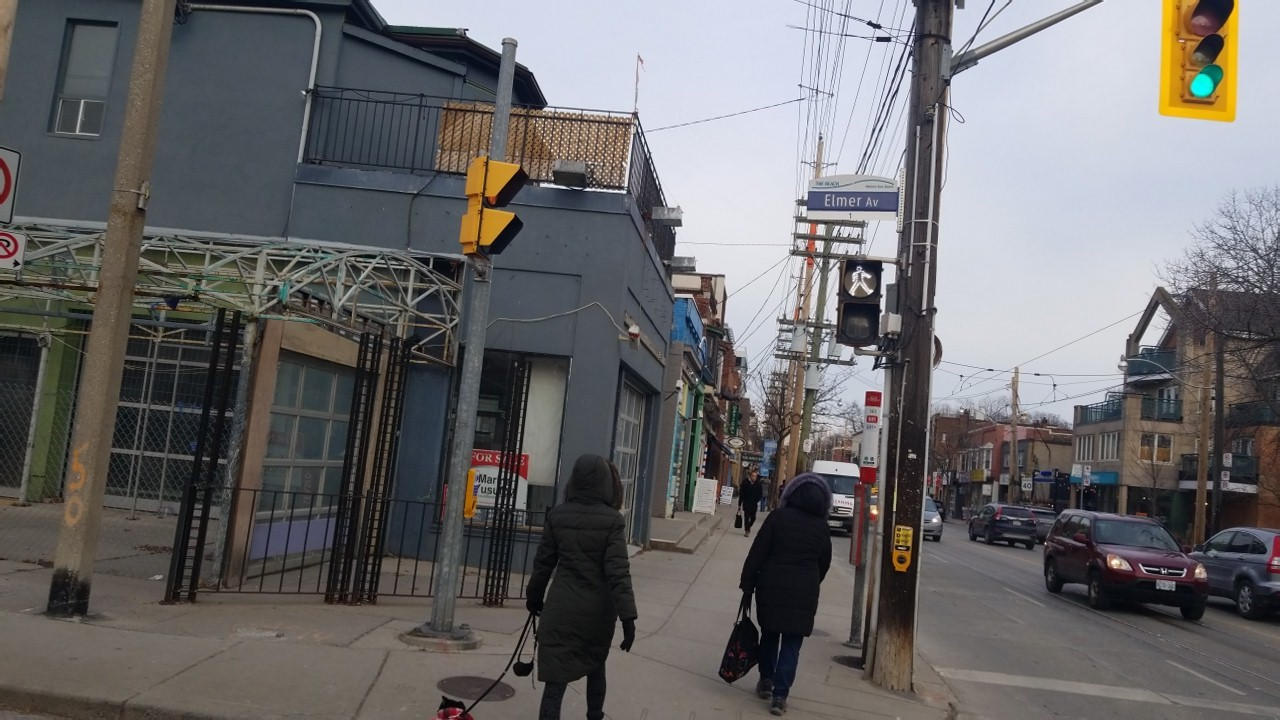light: (832, 258, 884, 349)
